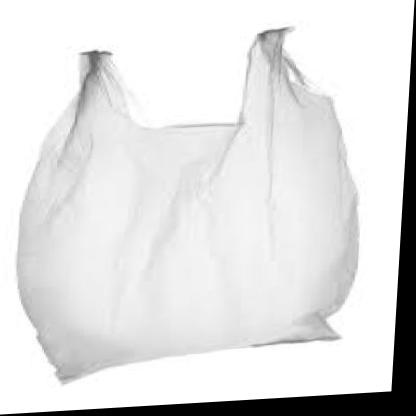trash: (17, 28, 358, 378)
